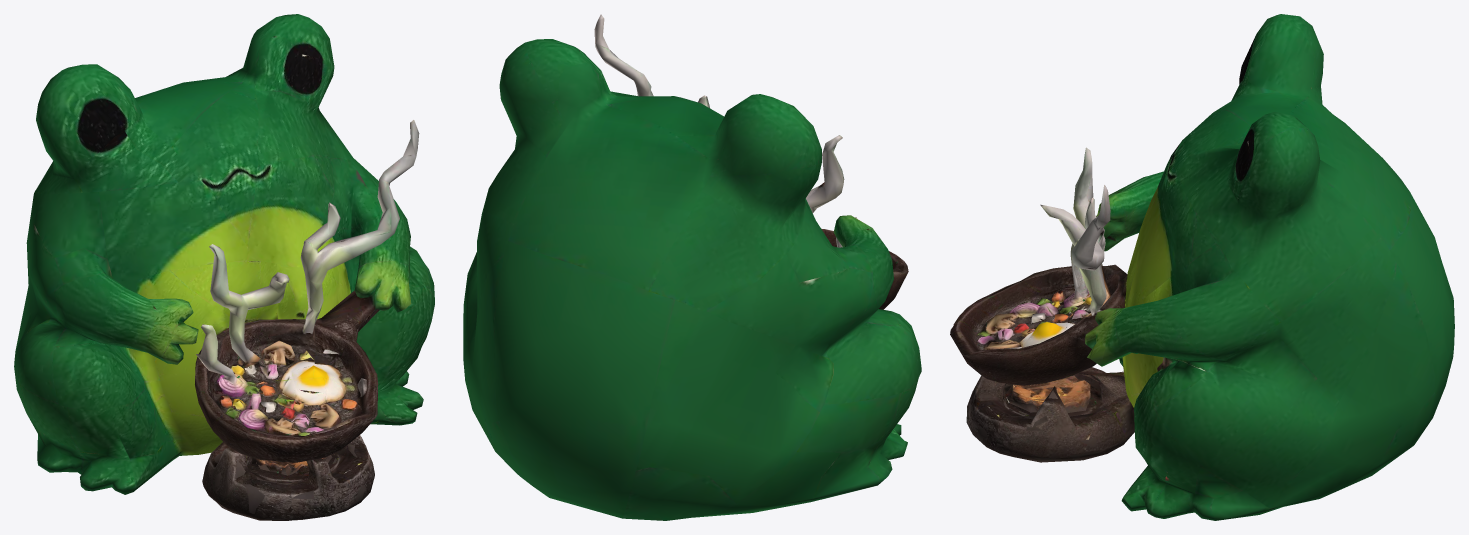
The model's file is cooking.glb.
3 views of the same model, side by side, from view 1: azimuth 30°, elevation 25°; view 2: azimuth 150°, elevation 25°; view 3: azimuth 270°, elevation 25° (orthographic). The views are drawn at different scales.
Parts seen in each view (by area): view 1: mesh_node; view 2: mesh_node; view 3: mesh_node.
Part boxes in pixels (left/top/right/bottom): mesh_node: left=14, top=14, right=434, bottom=520; mesh_node: left=463, top=14, right=921, bottom=520; mesh_node: left=950, top=14, right=1454, bottom=520.
Size of the model in its own units: 1.76 by 1.53 by 1.9.
1 material, 1 textured.
